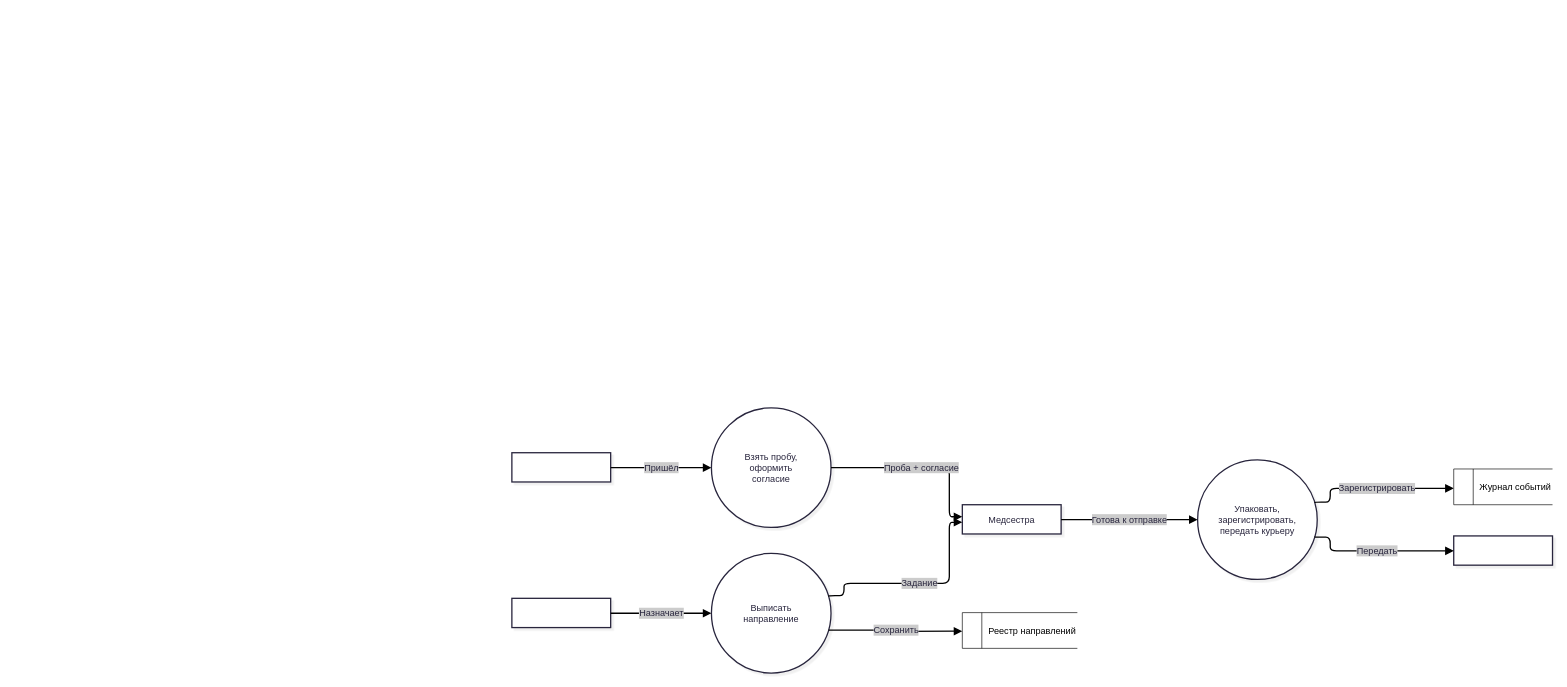
Image size: 1567x687. Some labels were removed from this diagram. Each missing label, with the centre of its shape:
Врач: [562,613]
Курьер: [1504,551]
Пациент: [562,468]
